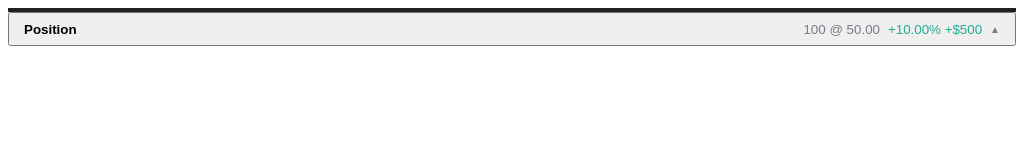
it: Should remove the position
Later steps or results of the test are not shown.
Click the button with aria-label "Position in KO": (50, 29) [8, 12, 1016, 46]
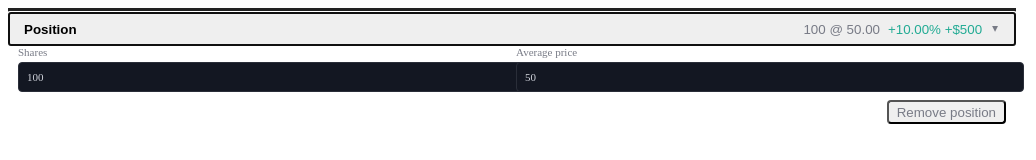
Check: the number field labelled "Shares" holds "100", box [18, 62, 526, 92]
